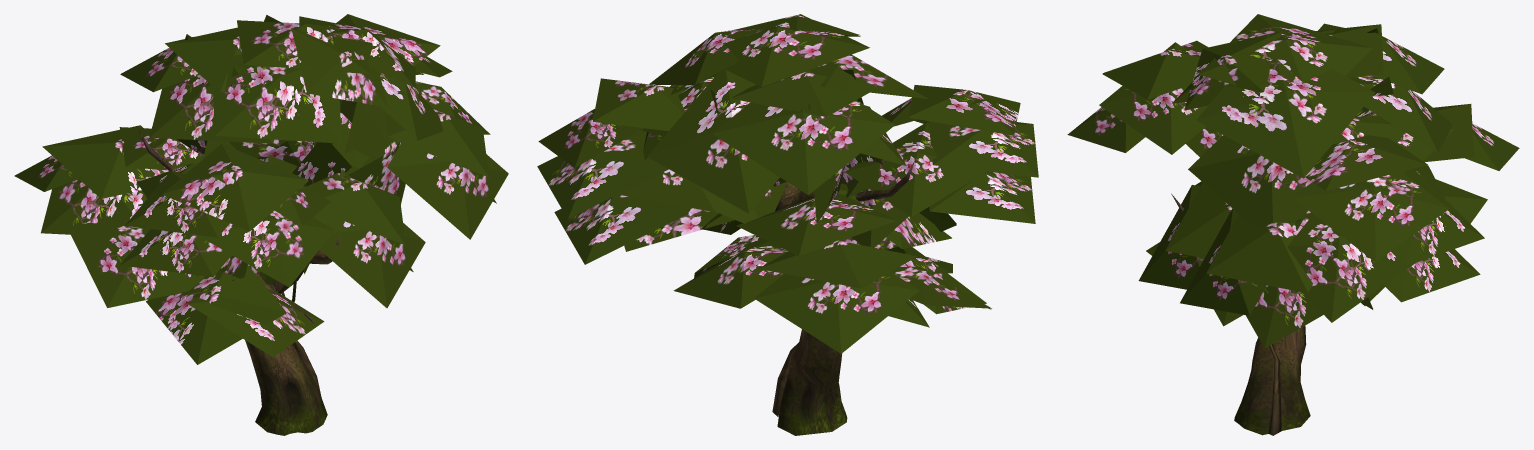
The model's file is gy_taoshu03.FBX.
3 renders of one model, left to right at view 1: azimuth 30°, elevation 25°; view 2: azimuth 150°, elevation 25°; view 3: azimuth 270°, elevation 25°, orthographic. The views are drawn at different scales.
Parts seen in each view (by area): view 1: gy_taoshu03; view 2: gy_taoshu03; view 3: gy_taoshu03.
Boxes of the visible parts, x1,y1,x2,y2 form: gy_taoshu03: (14, 14, 508, 435); gy_taoshu03: (537, 14, 1038, 435); gy_taoshu03: (1067, 14, 1519, 435).
Bounding box in the file's own units: 463 × 400 × 419.
